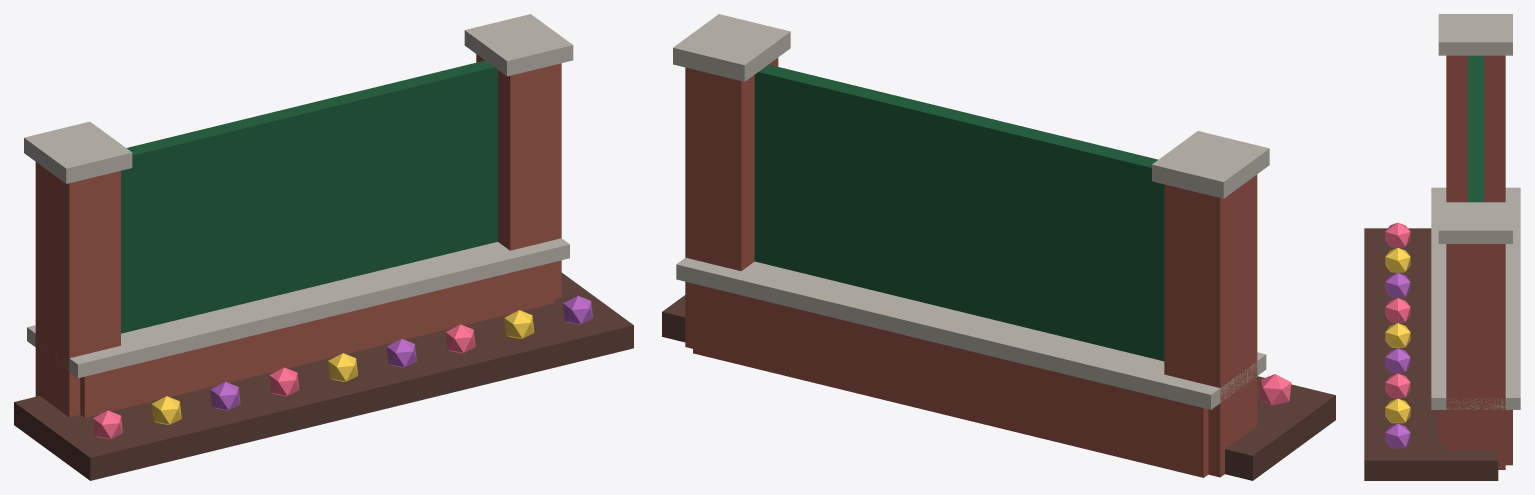
The model's file is town_welcome.glb.
3 views of the same model, side by side, from view 1: azimuth 30°, elevation 25°; view 2: azimuth 150°, elevation 25°; view 3: azimuth 270°, elevation 25° (orthographic). The views are drawn at different scales.
Visible parts, largest first — view 1: TownWelcome_body; view 2: TownWelcome_body; view 3: TownWelcome_body.
Part boxes in pixels (x1=…): TownWelcome_body: x1=14, y1=14, x2=633, y2=480; TownWelcome_body: x1=662, y1=14, x2=1335, y2=480; TownWelcome_body: x1=1364, y1=14, x2=1520, y2=480.
Bounding box in the file's own units: 7.4 × 3.6 × 2.1.
